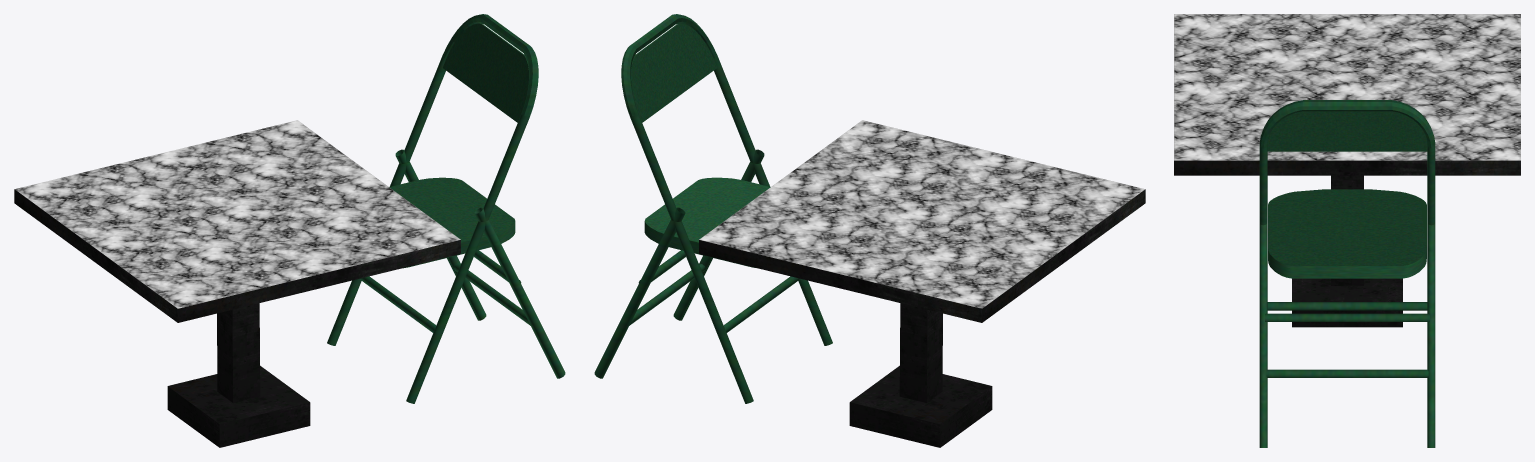
File: torDistTableChairs.fbx
The picture shows the model from 3 angles, left to right: view 1: azimuth 30°, elevation 25°; view 2: azimuth 150°, elevation 25°; view 3: azimuth 270°, elevation 25°; orthographic projection. The views are drawn at different scales.
Visible parts, largest first — view 1: torDistTable, torDistChair; view 2: torDistTable, torDistChair; view 3: torDistTable, torDistChair.
Boxes of the visible parts, <box> form: torDistTable: <box>14,120,460,447</box>; torDistChair: <box>327,14,565,403</box>; torDistTable: <box>699,120,1145,447</box>; torDistChair: <box>594,14,832,403</box>; torDistTable: <box>1174,14,1520,327</box>; torDistChair: <box>1259,100,1435,447</box>.
Size of the model in its own units: 94.94 by 68.02 by 62.57.
1 material, 1 textured.
